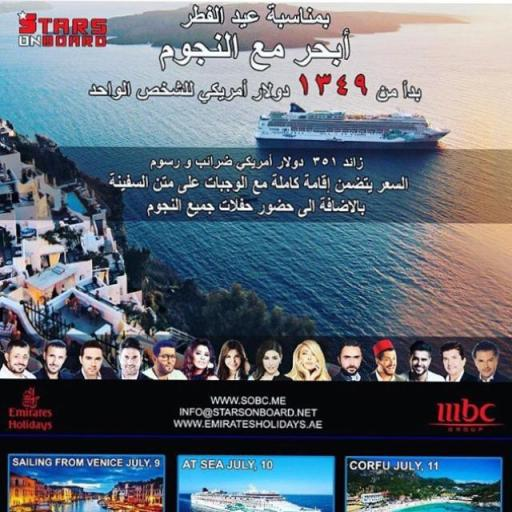Emirates: (4, 384, 55, 434)
